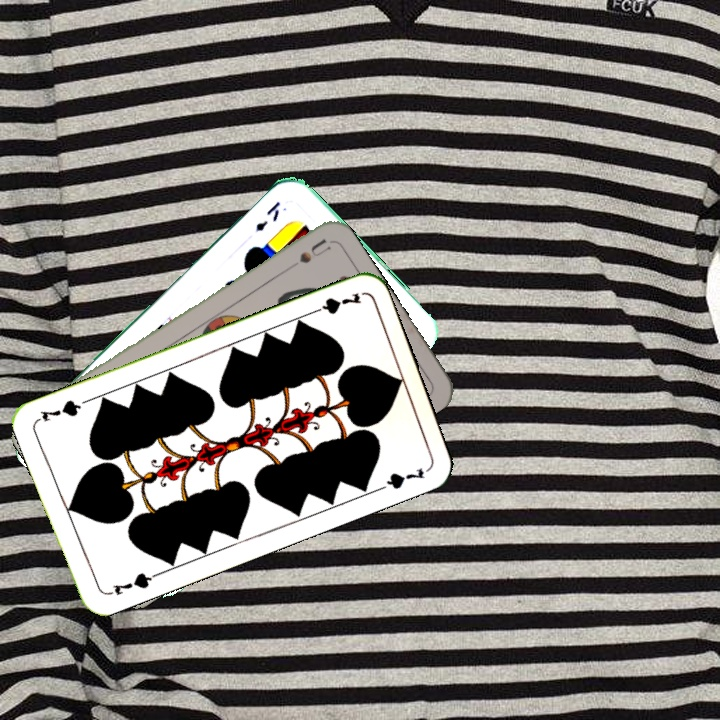EK: (251, 197, 283, 234)
G7: (305, 288, 364, 318), (103, 568, 160, 598)
SU: (277, 234, 332, 275)
